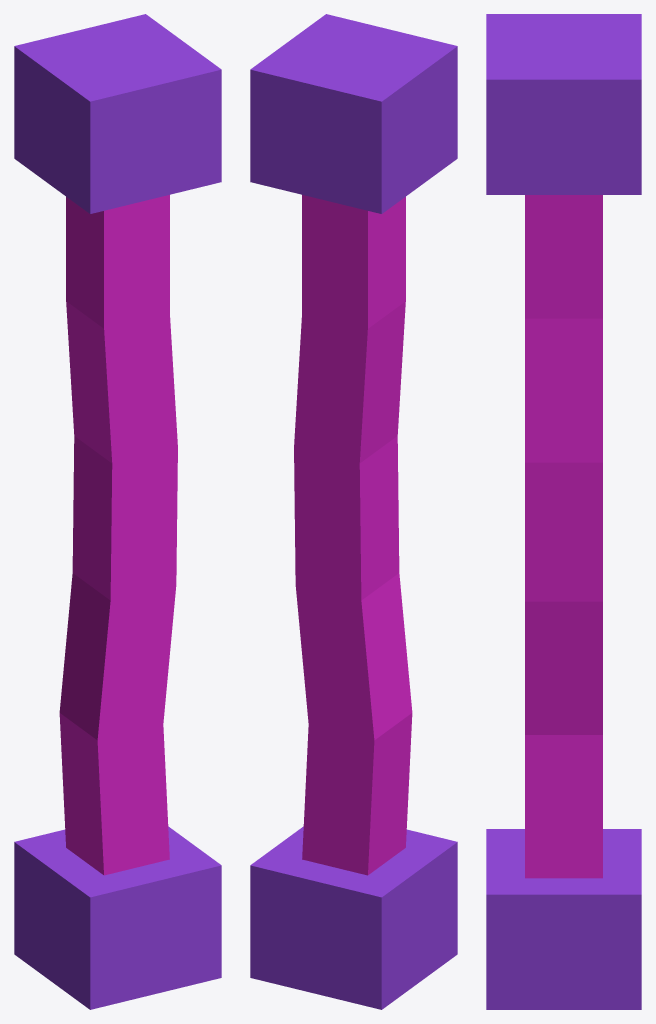
File: pilar.fbx
The picture shows the model from 3 angles, left to right: view 1: azimuth 30°, elevation 25°; view 2: azimuth 150°, elevation 25°; view 3: azimuth 270°, elevation 25°; orthographic projection. The views are drawn at different scales.
Parts seen in each view (by area): view 1: Pilar; view 2: Pilar; view 3: Pilar.
Boxes of the visible parts, bbox=[...] form: Pilar: bbox=[14, 14, 221, 1009]; Pilar: bbox=[250, 14, 457, 1009]; Pilar: bbox=[486, 14, 641, 1009].
Bounding box in the file's own units: 303 × 2001 × 303.
